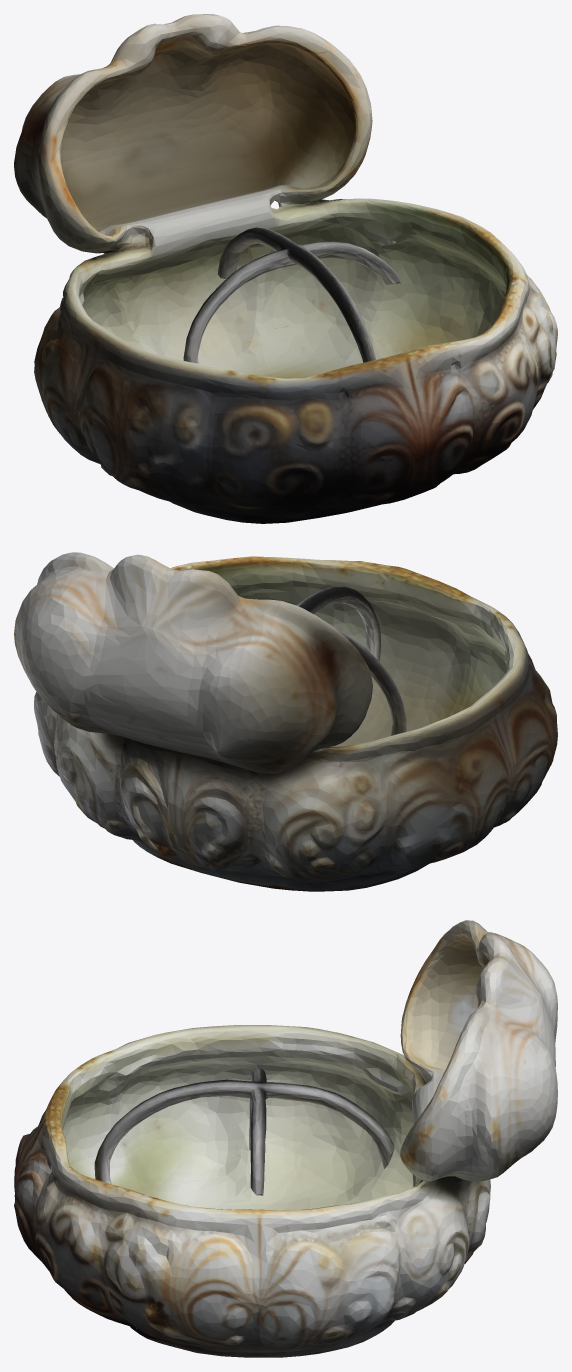
Rendered from porcelain-ring-box-used-rustic-worn.jpeg.glb.
3 views of the same model, one above another, from view 1: azimuth 30°, elevation 25°; view 2: azimuth 150°, elevation 25°; view 3: azimuth 270°, elevation 25° (orthographic). The views are drawn at different scales.
Visible parts, largest first — view 1: world; view 2: world; view 3: world.
Boxes of the visible parts, bbox=[...] form: world: bbox=[14, 14, 557, 523]; world: bbox=[14, 552, 557, 891]; world: bbox=[14, 920, 557, 1357].
Bounding box in the file's own units: 0.9297 × 0.6945 × 1.
1 material, 1 textured.
